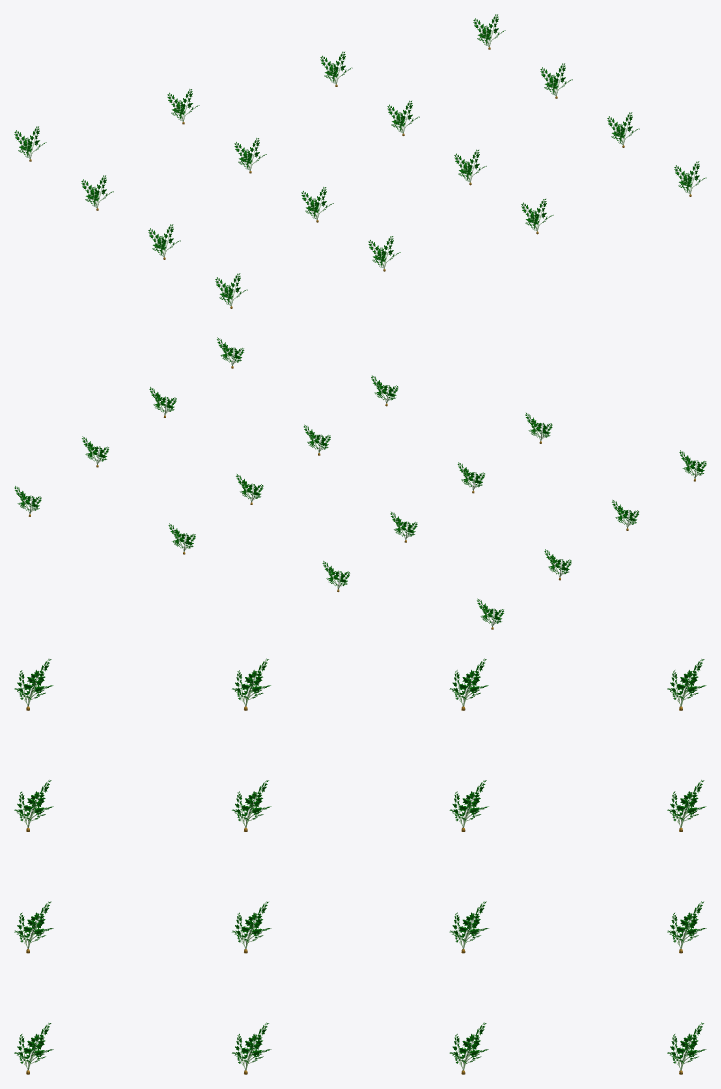
File: carrot3.fbx
3 views of the same model, one above another, from view 1: azimuth 30°, elevation 25°; view 2: azimuth 150°, elevation 25°; view 3: azimuth 270°, elevation 25° (orthographic). The views are drawn at different scales.
Parts seen in each view (by area): view 1: carrot 3; view 2: carrot 3; view 3: carrot 3.
Boxes of the visible parts, x1,y1,x2,y2 form: carrot 3: (14, 14, 706, 308); carrot 3: (14, 337, 706, 629); carrot 3: (14, 658, 706, 1074).
Bounding box in the file's own units: 699 × 41.5 × 534.
